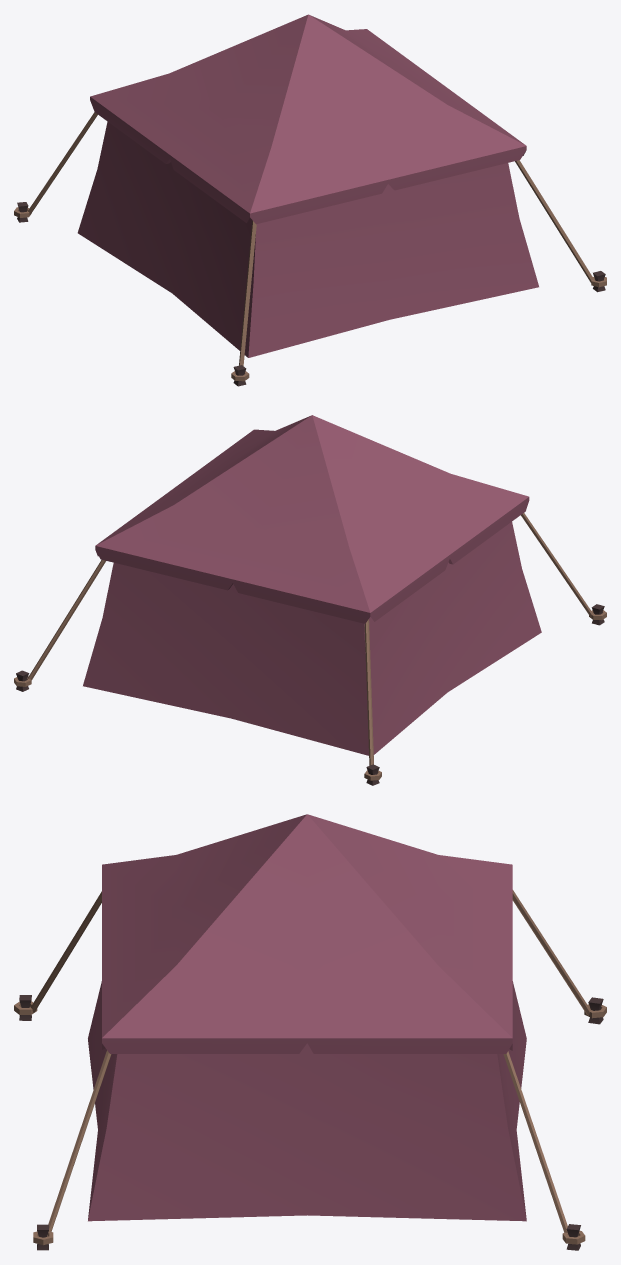
File: MediumTent.fbx
The picture shows the model from 3 angles, top to bottom: view 1: azimuth 30°, elevation 25°; view 2: azimuth 150°, elevation 25°; view 3: azimuth 270°, elevation 25°; orthographic projection. The views are drawn at different scales.
Parts seen in each view (by area): view 1: tent, rope4, rope1, rope3; view 2: tent, rope3, rope2, rope4; view 3: tent, rope2, rope1, rope3, rope4.
Part boxes in pixels (x1,y1,x2,y2): tent: [77, 14, 538, 357]; rope4: [239, 220, 256, 365]; rope1: [515, 160, 594, 282]; rope3: [27, 112, 97, 214]; tent: [83, 415, 541, 755]; rope3: [364, 619, 373, 765]; rope2: [28, 560, 105, 679]; rope4: [521, 513, 593, 617]; tent: [88, 814, 526, 1221]; rope2: [503, 1051, 568, 1235]; rope1: [47, 1050, 111, 1236]; rope3: [512, 890, 590, 1015]; rope4: [30, 891, 101, 1012].
Bounding box in the file's own units: 2.73 × 1.69 × 2.87.
